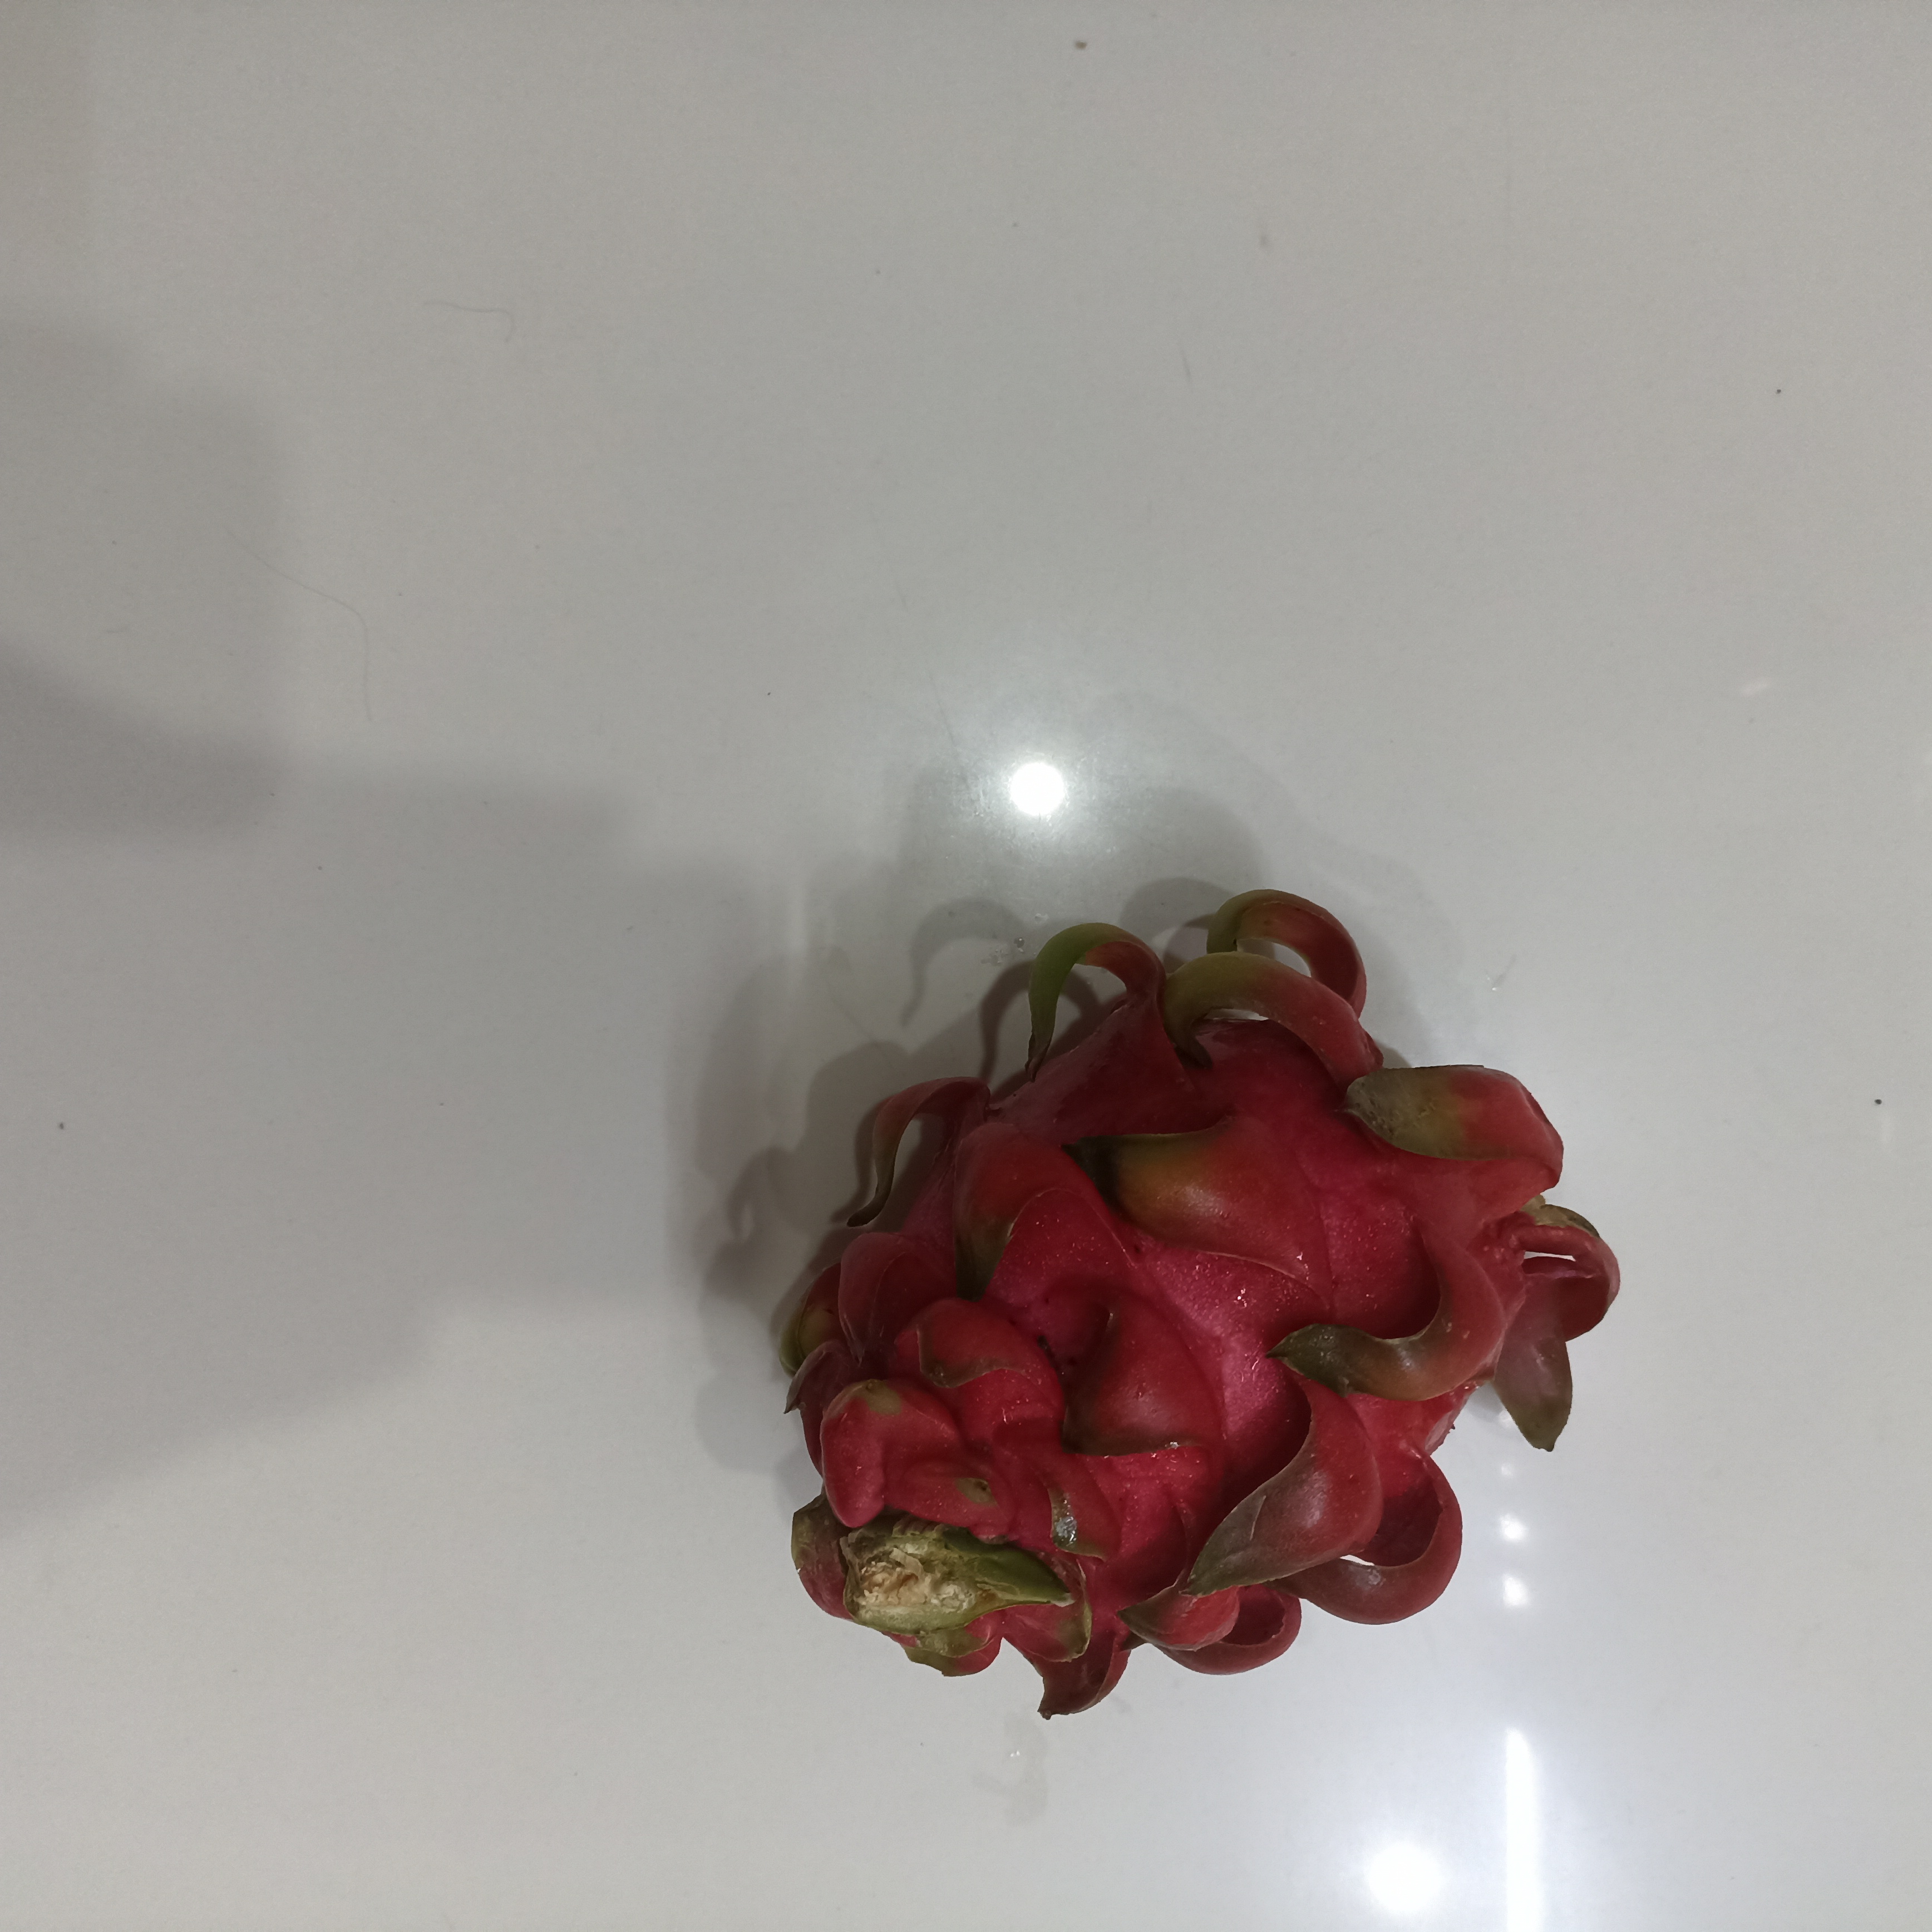Thanh long: (787, 903, 1601, 1682)
